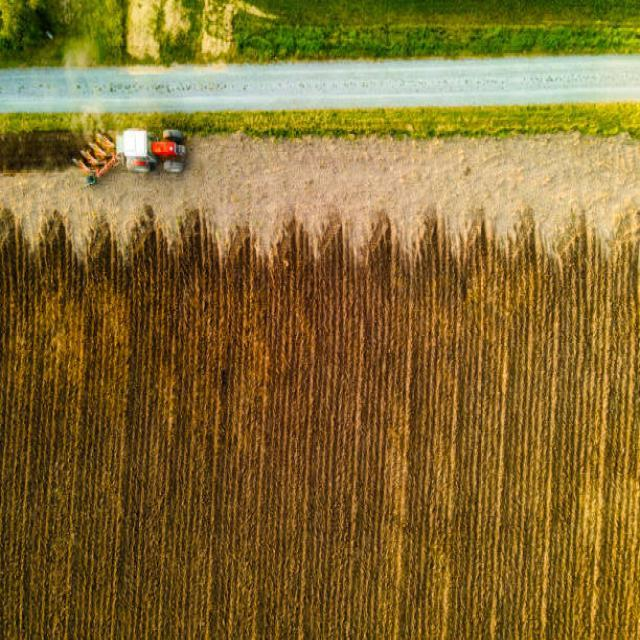Tratores - v5 YOLO V8L 2024-11-13: (116, 127, 188, 174)
